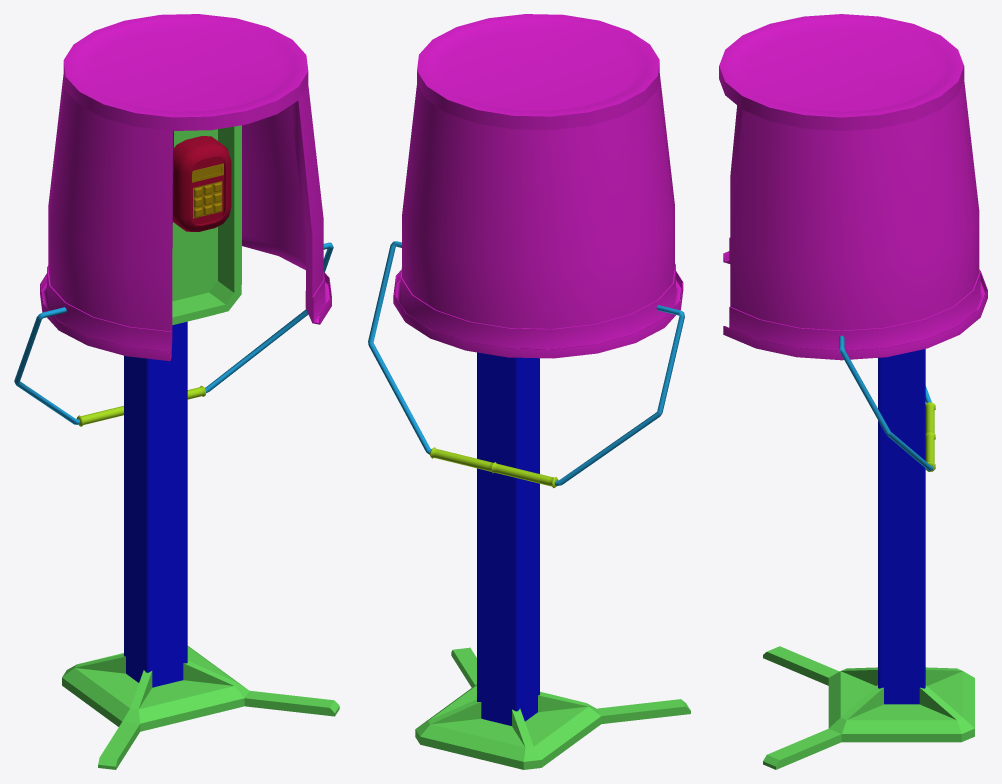
Rendered from PayPhoneRandom.fbx.
3 views of the same model, side by side, from view 1: azimuth 30°, elevation 25°; view 2: azimuth 150°, elevation 25°; view 3: azimuth 270°, elevation 25° (orthographic).
Parts seen in each view (by area): view 1: PhonePayphone; view 2: PhonePayphone; view 3: PhonePayphone.
Boxes of the visible parts, x1,y1,x2,y2 form: PhonePayphone: (14, 14, 339, 769); PhonePayphone: (368, 14, 690, 769); PhonePayphone: (719, 14, 987, 769).
Size of the model in its own units: 2.77 by 5.81 by 2.19.
